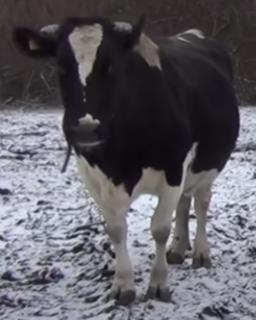cow: (15, 18, 240, 308)
